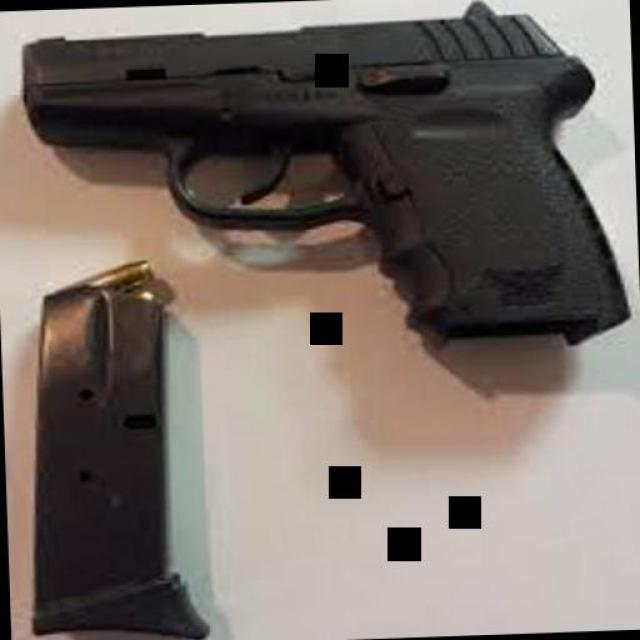gun: (11, 0, 628, 368)
